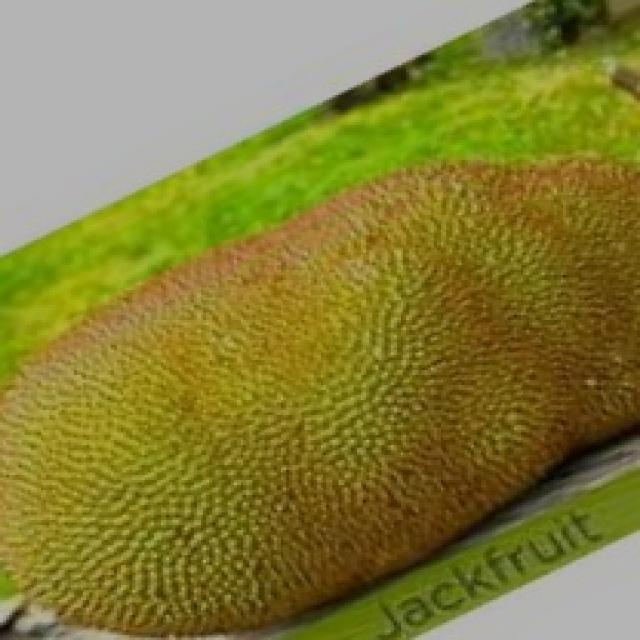Fruit: (0, 212, 397, 638), (231, 122, 640, 490)
